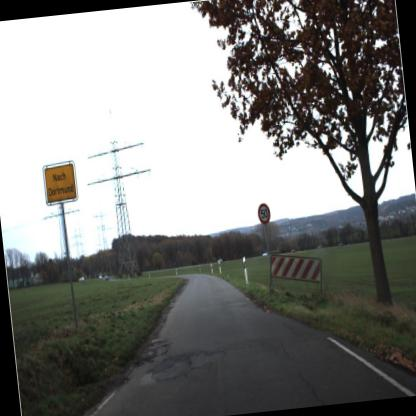prohibitory: (252, 200, 273, 226)
